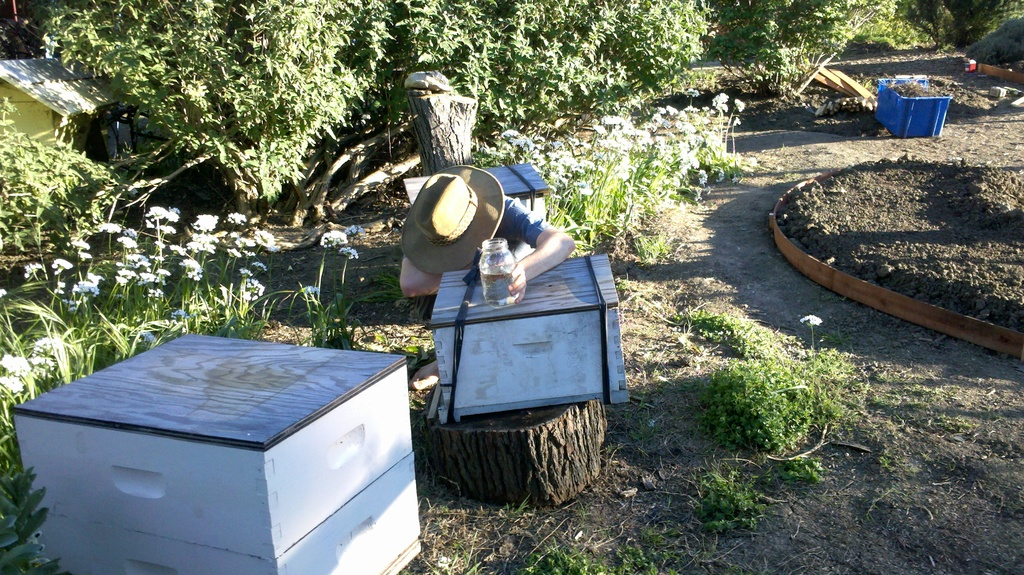Tree: (0, 0, 715, 235)
